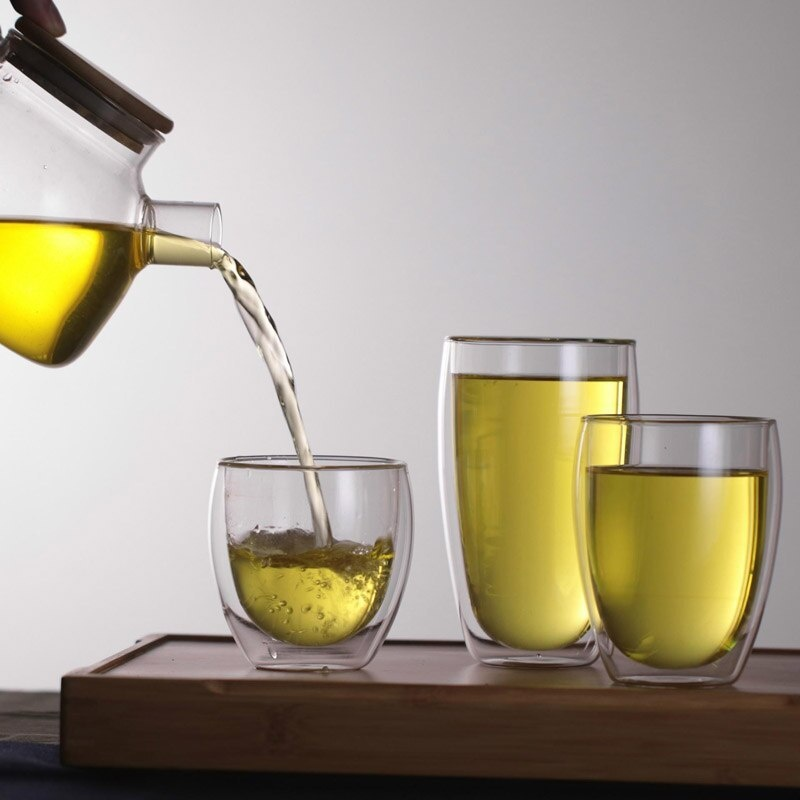whiskey: (578, 408, 771, 683), (209, 438, 415, 668)
